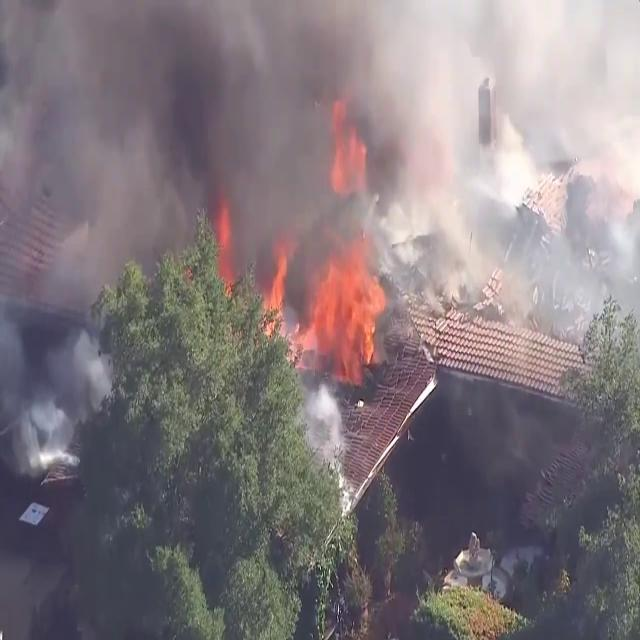Fire: (258, 225, 388, 375)
Smoke: (10, 0, 637, 340)
